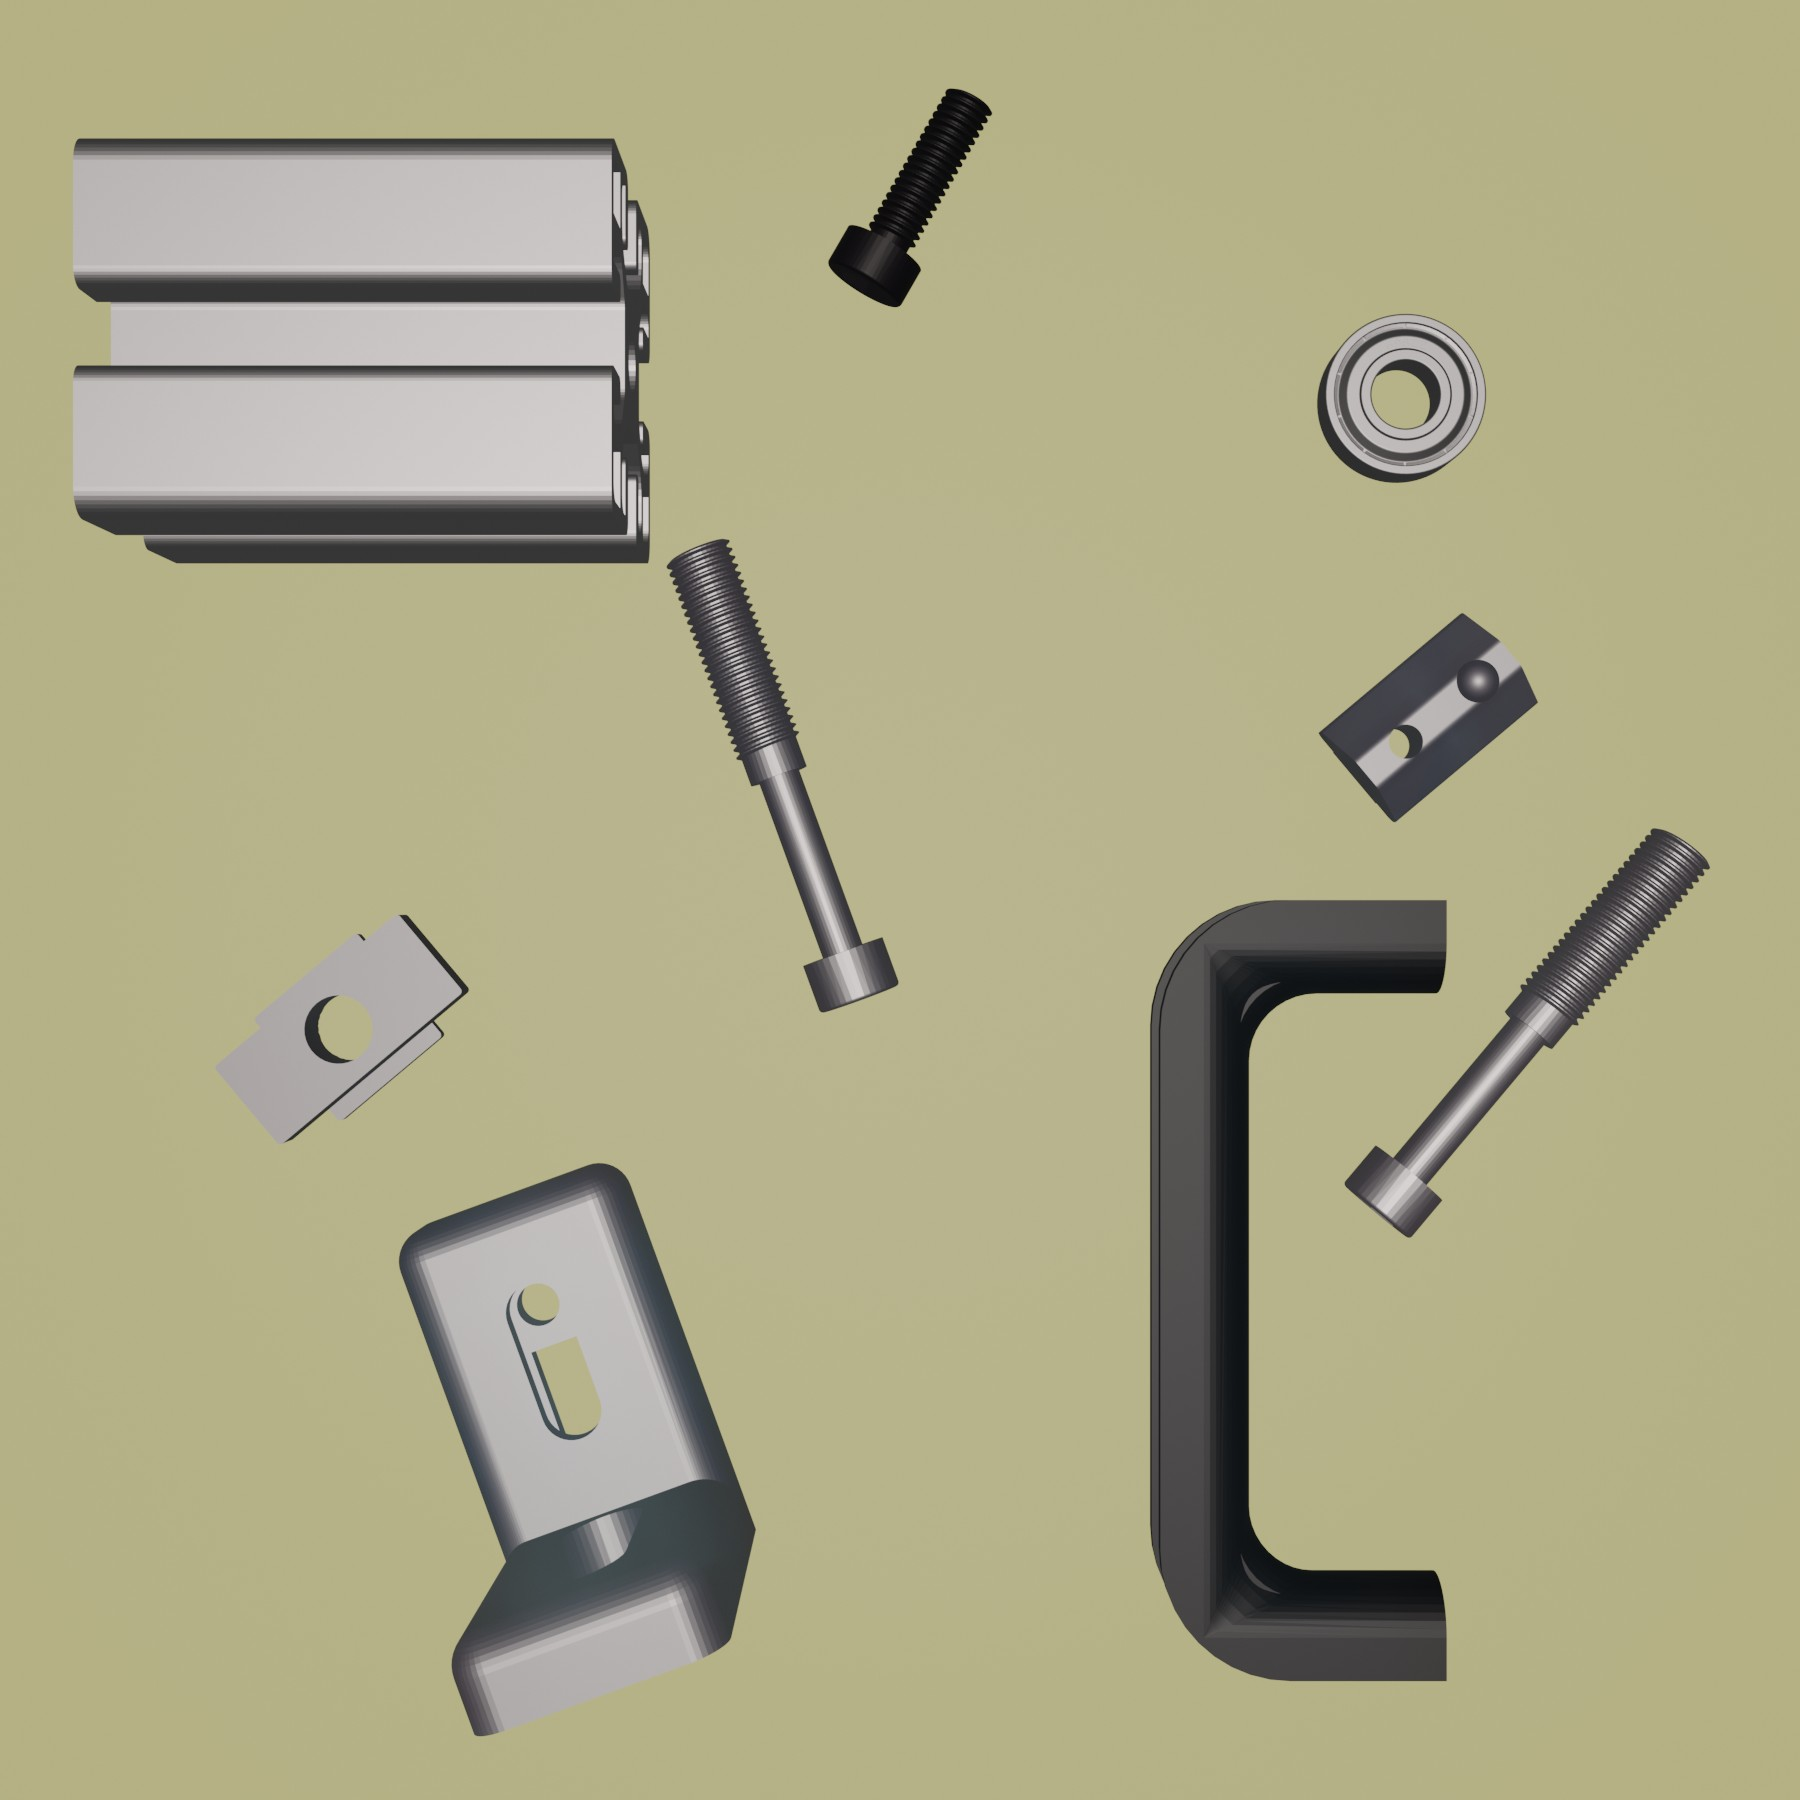Aluminium Extension: (68, 130, 656, 569)
Ball Bearing: (1315, 308, 1488, 485)
Multiwinkel: (397, 1162, 758, 1741)
Pull Handle: (1142, 892, 1451, 1688)
Shoulder Socket Head Cap Screw: (1343, 824, 1709, 1241), (663, 536, 902, 1015)
Socket Head Cap Screw: (827, 86, 994, 308)
T Nut Square: (214, 908, 471, 1147)
T Spring Nut: (1319, 612, 1538, 826)
